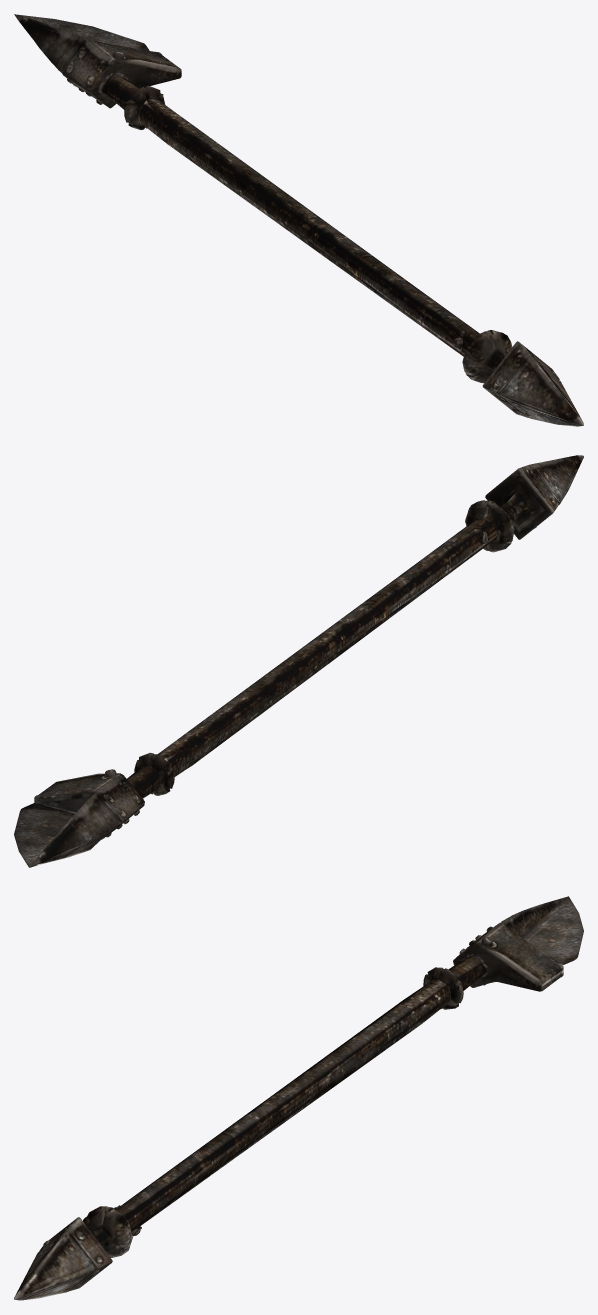
Rendered from spear.glb.
3 views of the same model, one above another, from view 1: azimuth 30°, elevation 25°; view 2: azimuth 150°, elevation 25°; view 3: azimuth 330°, elevation 25° (orthographic). The views are drawn at different scales.
Visible parts, largest first — view 1: tripo_node_7a98e087-4a01-4656-a8b5-150097f045ac; view 2: tripo_node_7a98e087-4a01-4656-a8b5-150097f045ac; view 3: tripo_node_7a98e087-4a01-4656-a8b5-150097f045ac.
Part boxes in pixels (x1,y1,x2,y2): tripo_node_7a98e087-4a01-4656-a8b5-150097f045ac: [14, 14, 583, 426]; tripo_node_7a98e087-4a01-4656-a8b5-150097f045ac: [14, 455, 583, 867]; tripo_node_7a98e087-4a01-4656-a8b5-150097f045ac: [14, 896, 583, 1300].
Size of the model in its own units: 0.265 by 0.1771 by 2.5.
Materials: 1 (1 with a texture image).
